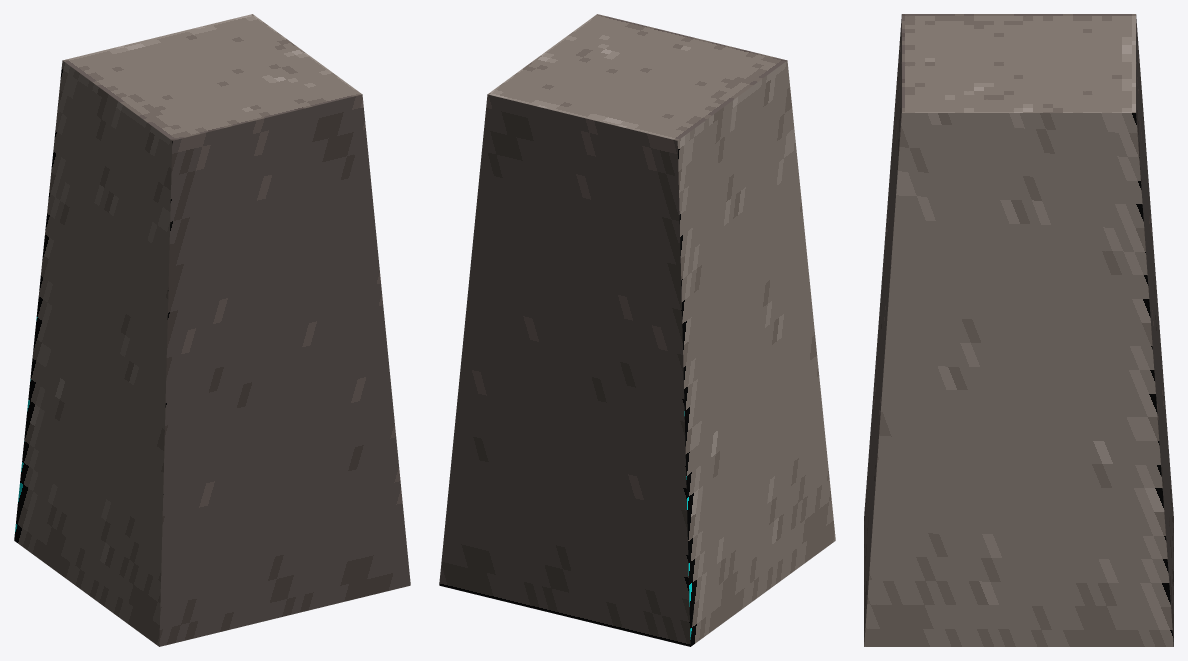
The model's file is monolith_894x01.gltf.
The picture shows the model from 3 angles, left to right: view 1: azimuth 30°, elevation 25°; view 2: azimuth 150°, elevation 25°; view 3: azimuth 270°, elevation 25°; orthographic projection. The views are drawn at different scales.
Parts seen in each view (by area): view 1: monolith_894x01; view 2: monolith_894x01; view 3: monolith_894x01.
Boxes of the visible parts, x1,y1,x2,y2 form: monolith_894x01: (14, 14, 410, 646); monolith_894x01: (439, 14, 835, 646); monolith_894x01: (864, 14, 1173, 646).
Size of the model in its own units: 2.32 by 4.29 by 2.32.
Materials: 1 (1 with a texture image).
